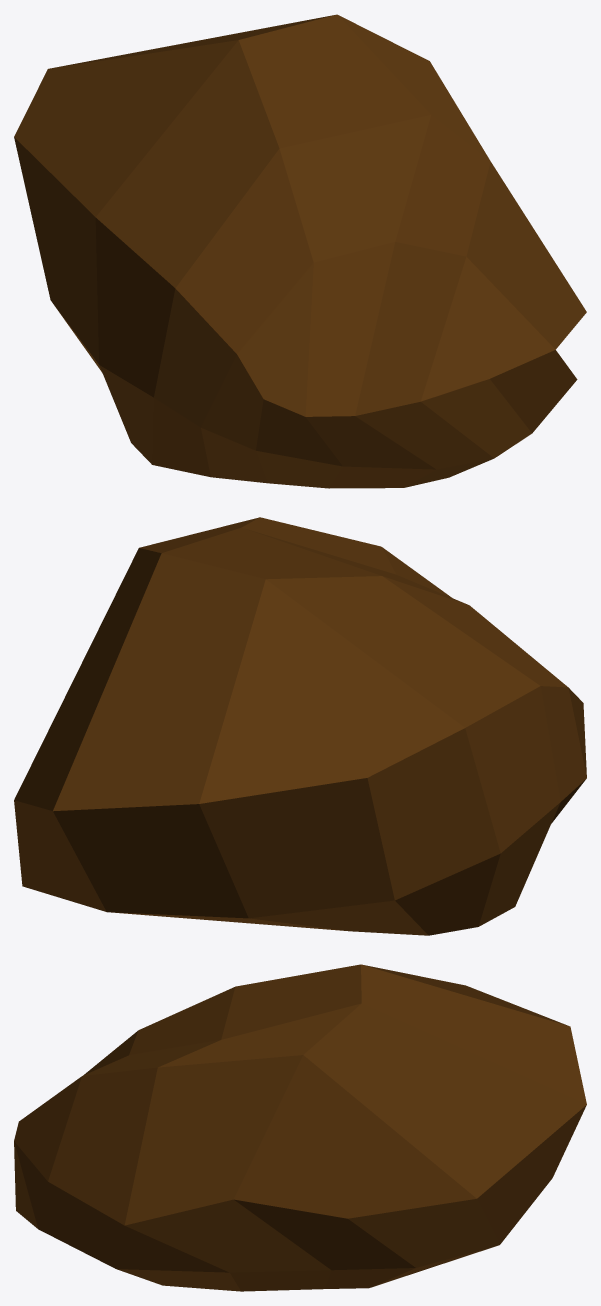
Rendered from Rock_E.fbx.
3 renders of one model, top to bottom at view 1: azimuth 30°, elevation 25°; view 2: azimuth 150°, elevation 25°; view 3: azimuth 270°, elevation 25°, orthographic. The views are drawn at different scales.
Parts seen in each view (by area): view 1: Rock_E; view 2: Rock_E; view 3: Rock_E.
Part boxes in pixels (<box>): Rock_E: <box>14,14,586,488</box>; Rock_E: <box>14,517,586,935</box>; Rock_E: <box>14,964,586,1291</box>.
Size of the model in its own units: 1.95 by 2.99 by 1.59.
